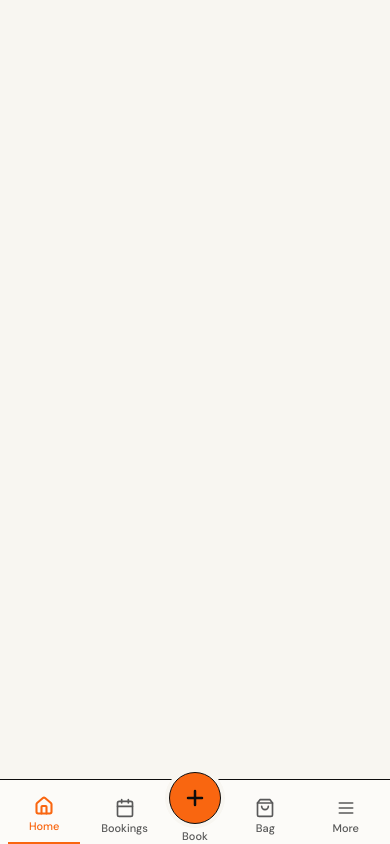
Test: ClientBottomNav › opens More sheet with secondary destinations
Step 1. Click the button with aria-label "More options" → [346, 817], box top-left (310, 790), bottom-right (382, 843)
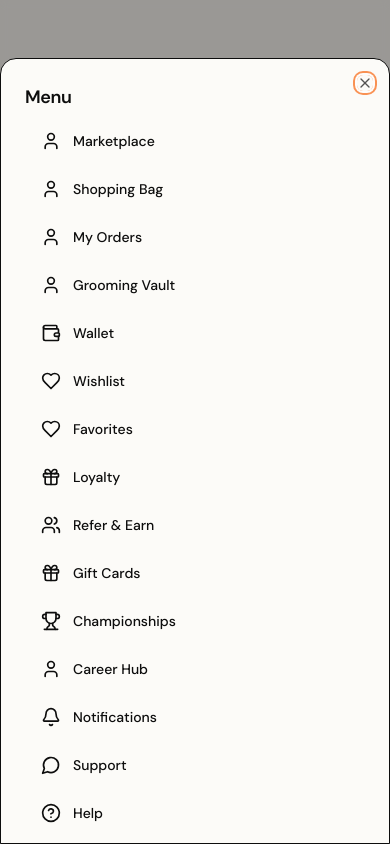
Now the heading "Menu" is shown, box top-left (25, 85), bottom-right (71, 109)
Now the link "Favorites" is shown, box top-left (41, 419), bottom-right (133, 439)
Now the link "Gift Cards" is shown, box top-left (41, 563), bottom-right (140, 583)
